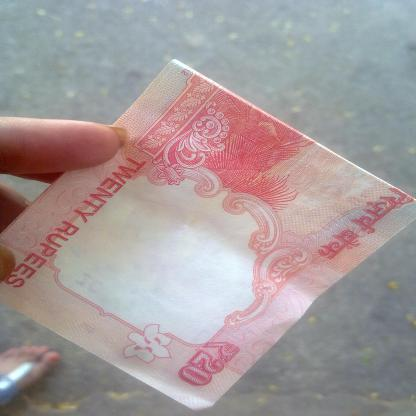Old20Back: (2, 61, 407, 391)
